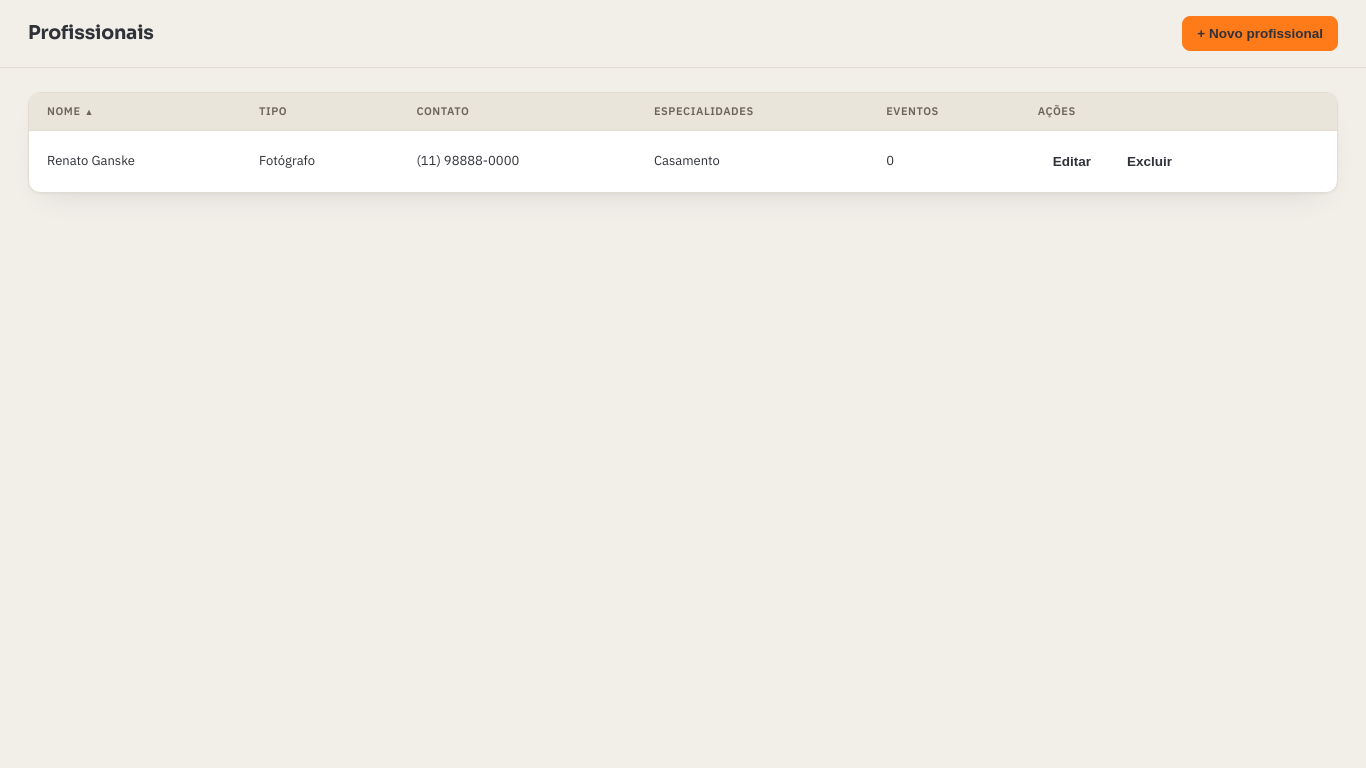
Test: ProfessionalsPage › exclui um profissional após confirmação, e não exclui quando cancelado
The width and height of the screenshot is (1366, 768).
Expected: the text "Renato Ganske" is shown, [29,130,241,192]
Click the button "Excluir" at (1150, 161), box [1112,144,1187,178]
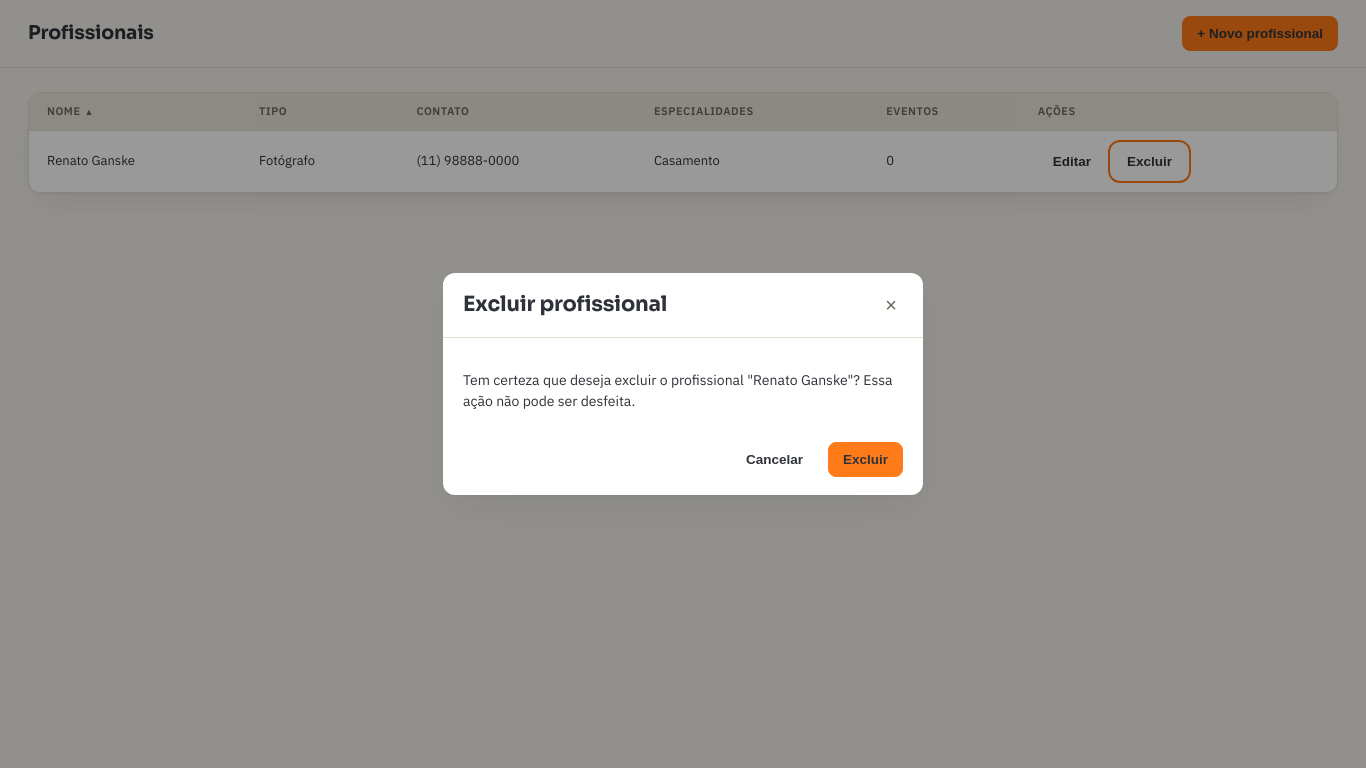
Click the button "Cancelar" at (774, 459), box [731,442,818,477]
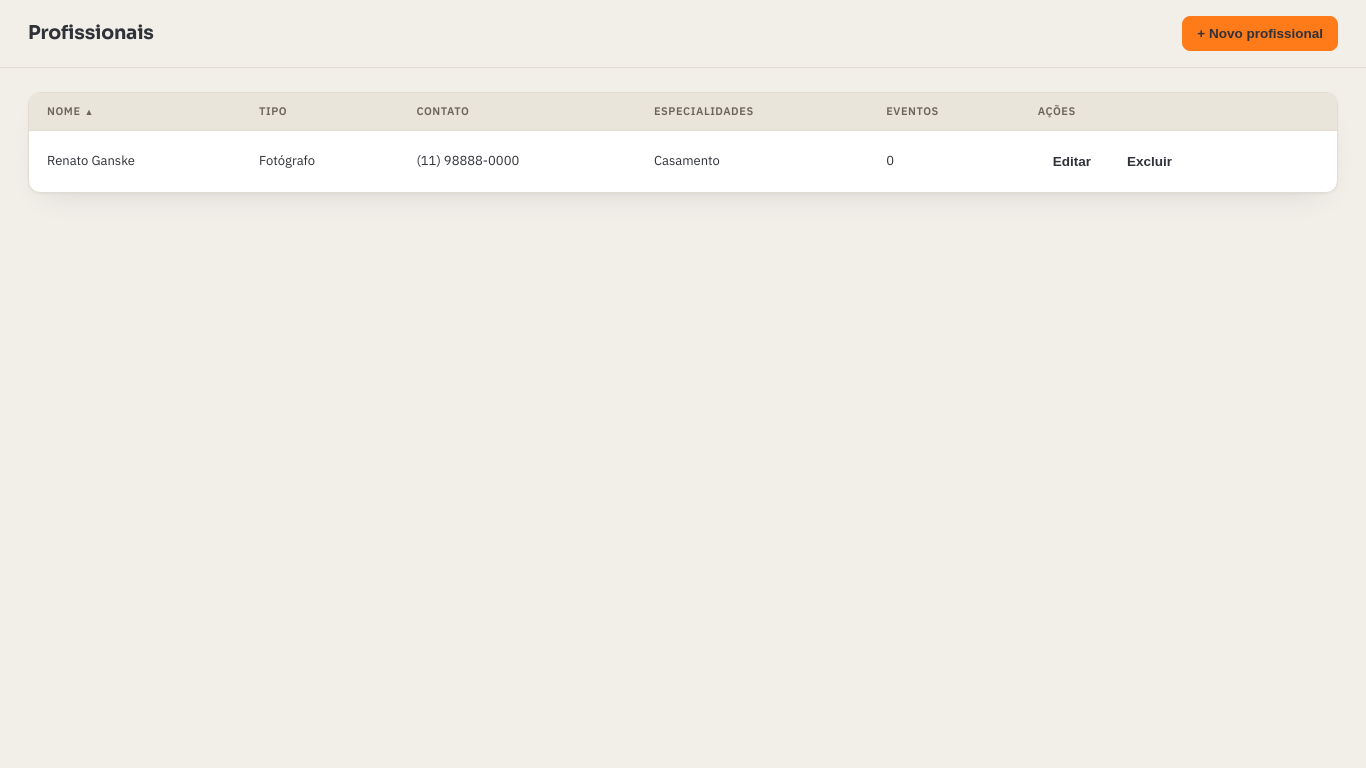
Expected: the text "Renato Ganske" is shown, [29,130,241,192]
Click the button "Excluir" at (1150, 161), box [1112,144,1187,178]
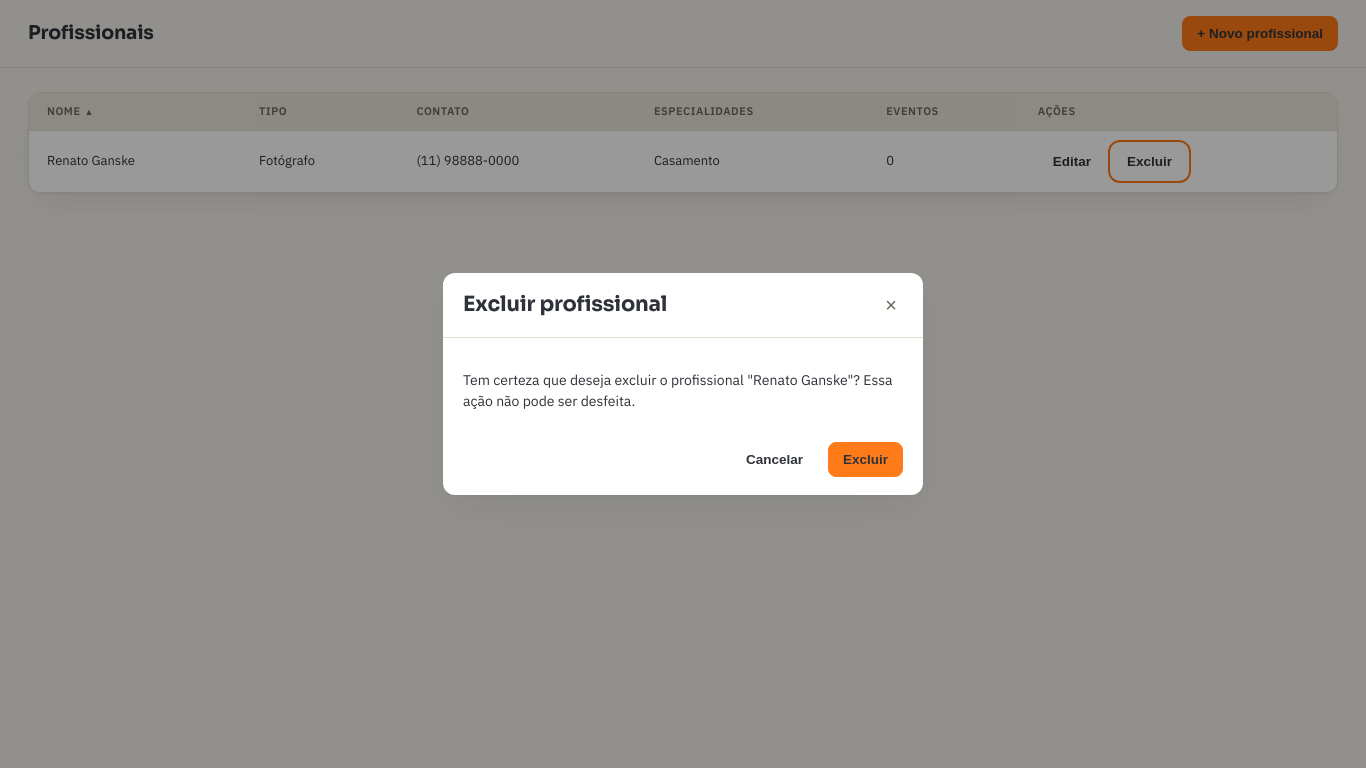
Click the button "Excluir" at (866, 459), box [828,442,903,477]
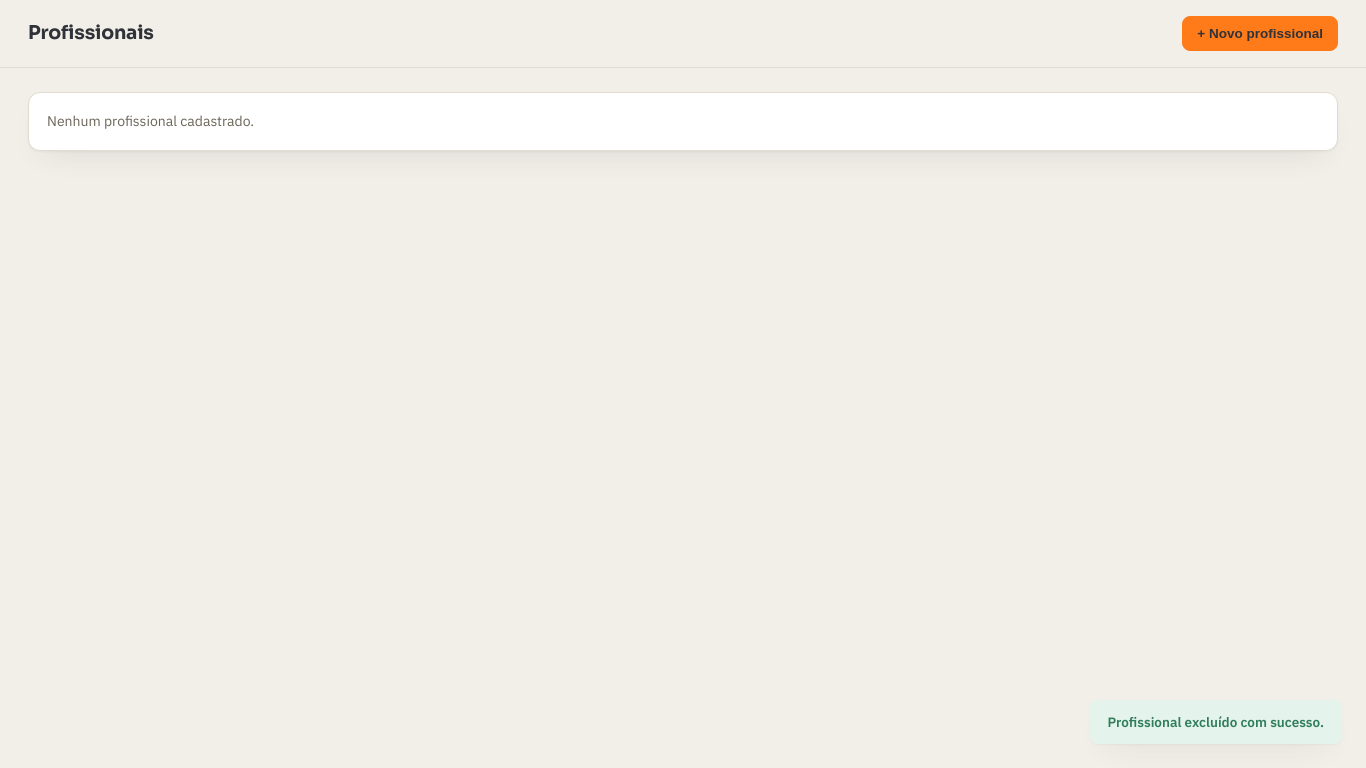
Expected: the text "Renato Ganske" is gone
